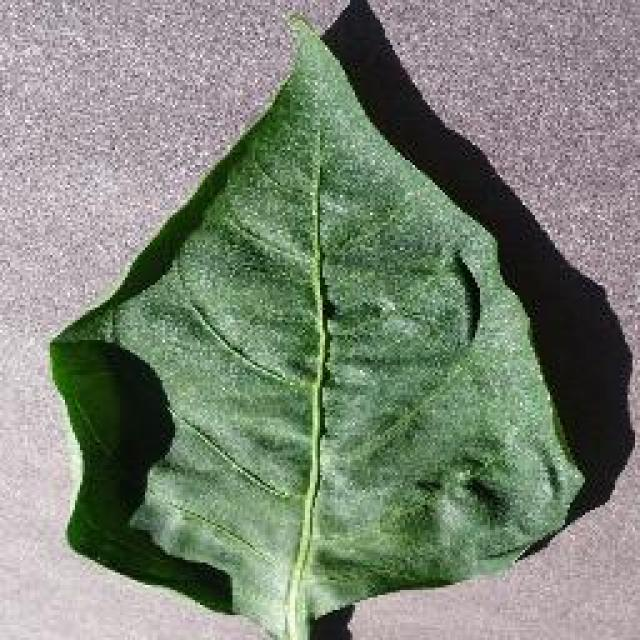Chilli_Healthy: (45, 2, 590, 638)
